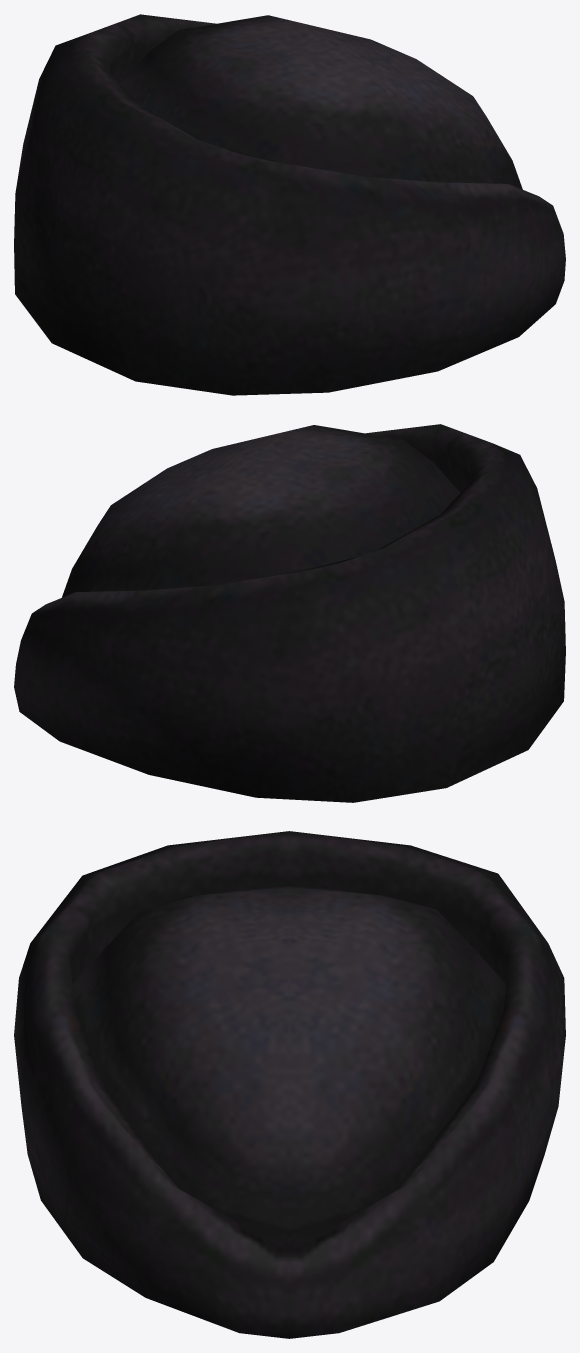
Rendered from hat_0450048.FBX.
3 renders of one model, top to bottom at view 1: azimuth 30°, elevation 25°; view 2: azimuth 150°, elevation 25°; view 3: azimuth 270°, elevation 25°, orthographic. The views are drawn at different scales.
Visible parts, largest first — view 1: hat_0450048; view 2: hat_0450048; view 3: hat_0450048.
Boxes of the visible parts, x1=… form: hat_0450048: x1=14, y1=14, x2=565, y2=395; hat_0450048: x1=14, y1=424, x2=565, y2=802; hat_0450048: x1=14, y1=831, x2=565, y2=1338.
Size of the model in its own units: 25.19 by 13.13 by 22.54.
